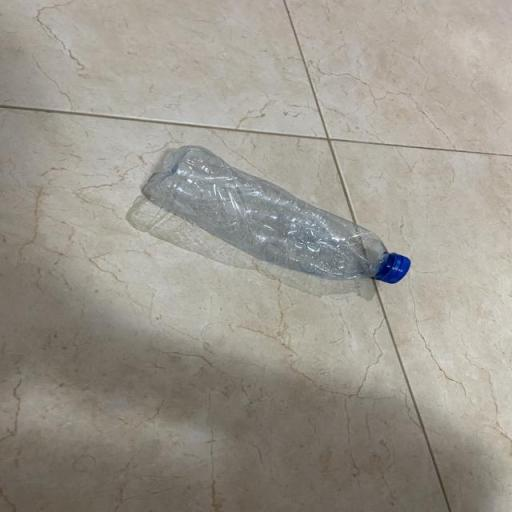plastic: (138, 138, 416, 292)
